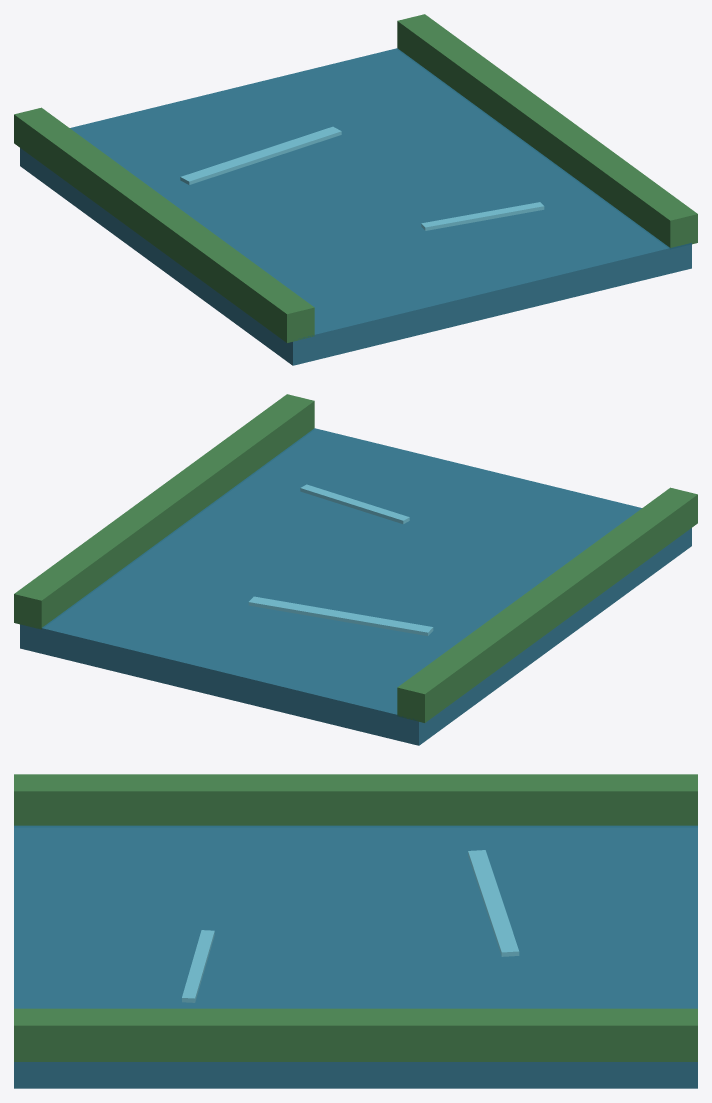
File: track_boat_1lane.glb
3 renders of one model, top to bottom at view 1: azimuth 30°, elevation 25°; view 2: azimuth 150°, elevation 25°; view 3: azimuth 270°, elevation 25°, orthographic. The views are drawn at different scales.
Visible parts, largest first — view 1: track_boat_1lane; view 2: track_boat_1lane; view 3: track_boat_1lane.
Part boxes in pixels (left/top/right/bottom): track_boat_1lane: left=14, top=14, right=697, bottom=365; track_boat_1lane: left=14, top=394, right=697, bottom=745; track_boat_1lane: left=14, top=774, right=697, bottom=1088.
Size of the model in its own units: 2.68 by 0.33 by 3.08.
